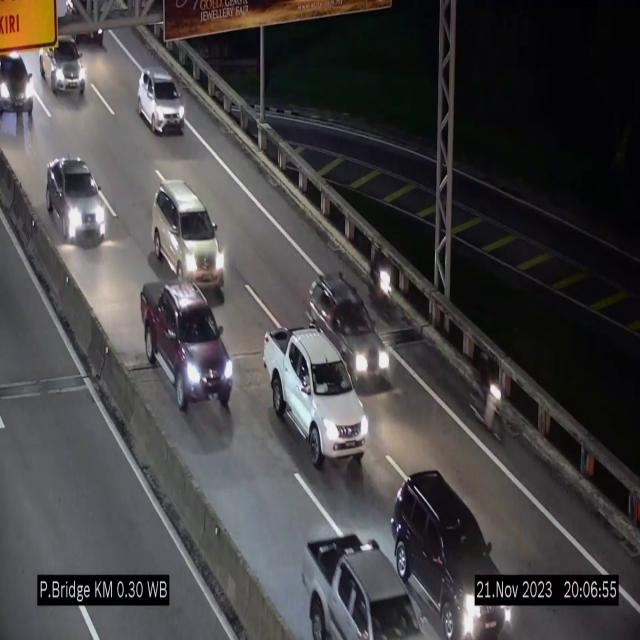Car: (387, 464, 512, 640), (292, 524, 426, 640), (263, 328, 368, 469), (139, 276, 235, 419), (308, 274, 388, 394), (152, 180, 226, 292), (49, 150, 107, 246), (38, 32, 90, 98), (137, 68, 185, 132), (0, 51, 42, 113)
Motorcycle: (474, 351, 510, 445), (370, 244, 396, 318)
